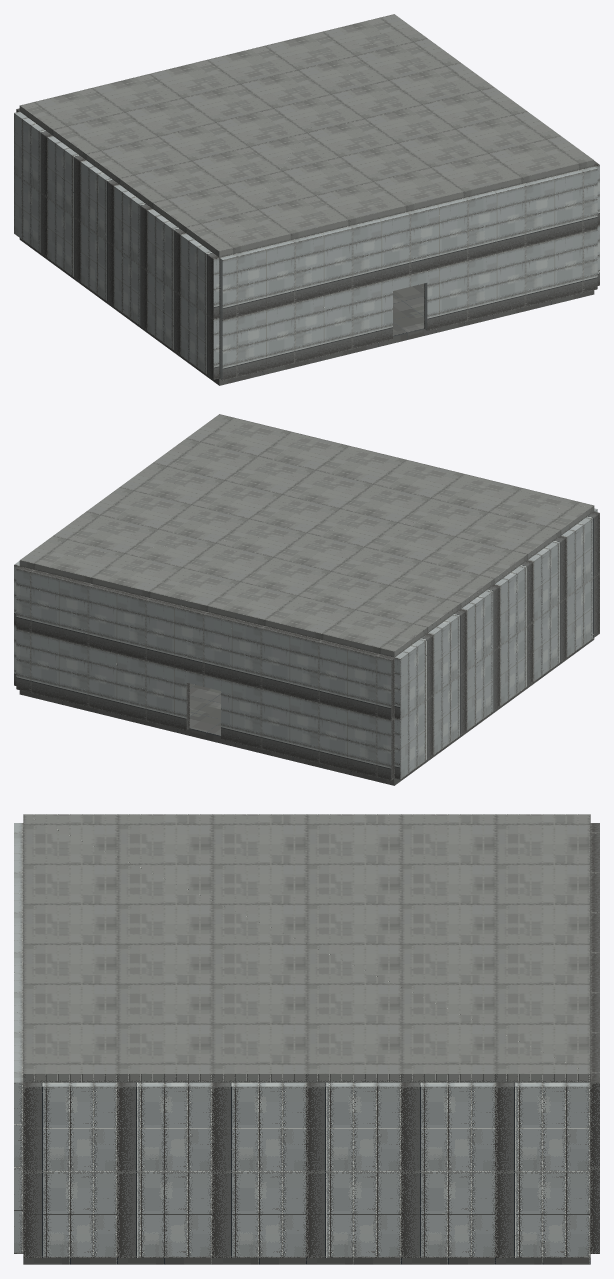
The model's file is shell_arena_balcony.glb.
The picture shows the model from 3 angles, top to bottom: view 1: azimuth 30°, elevation 25°; view 2: azimuth 150°, elevation 25°; view 3: azimuth 270°, elevation 25°; orthographic projection. The views are drawn at different scales.
Parts seen in each view (by area): view 1: shell_arena_balcony; view 2: shell_arena_balcony; view 3: shell_arena_balcony.
Boxes of the visible parts, bbox=[...] form: shell_arena_balcony: bbox=[14, 14, 599, 385]; shell_arena_balcony: bbox=[14, 414, 599, 785]; shell_arena_balcony: bbox=[14, 814, 599, 1264].
Size of the model in its own units: 26.8 by 8.9 by 24.8.
40 materials, 40 textured.
